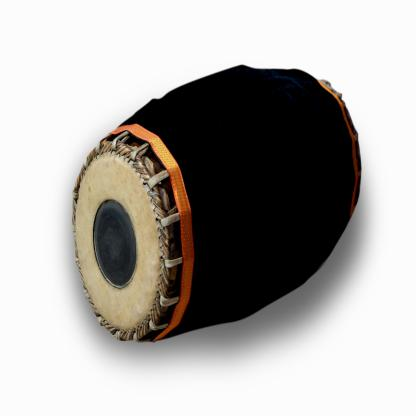Mridangam: (64, 43, 395, 365)
